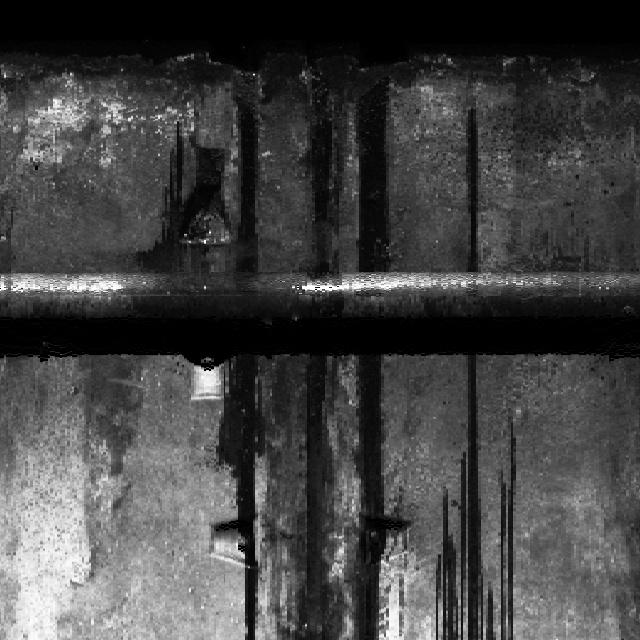leakage: (211, 348, 390, 639), (3, 0, 638, 73), (428, 354, 520, 639), (136, 96, 261, 273), (297, 69, 344, 274), (351, 74, 394, 273), (460, 105, 482, 272)
